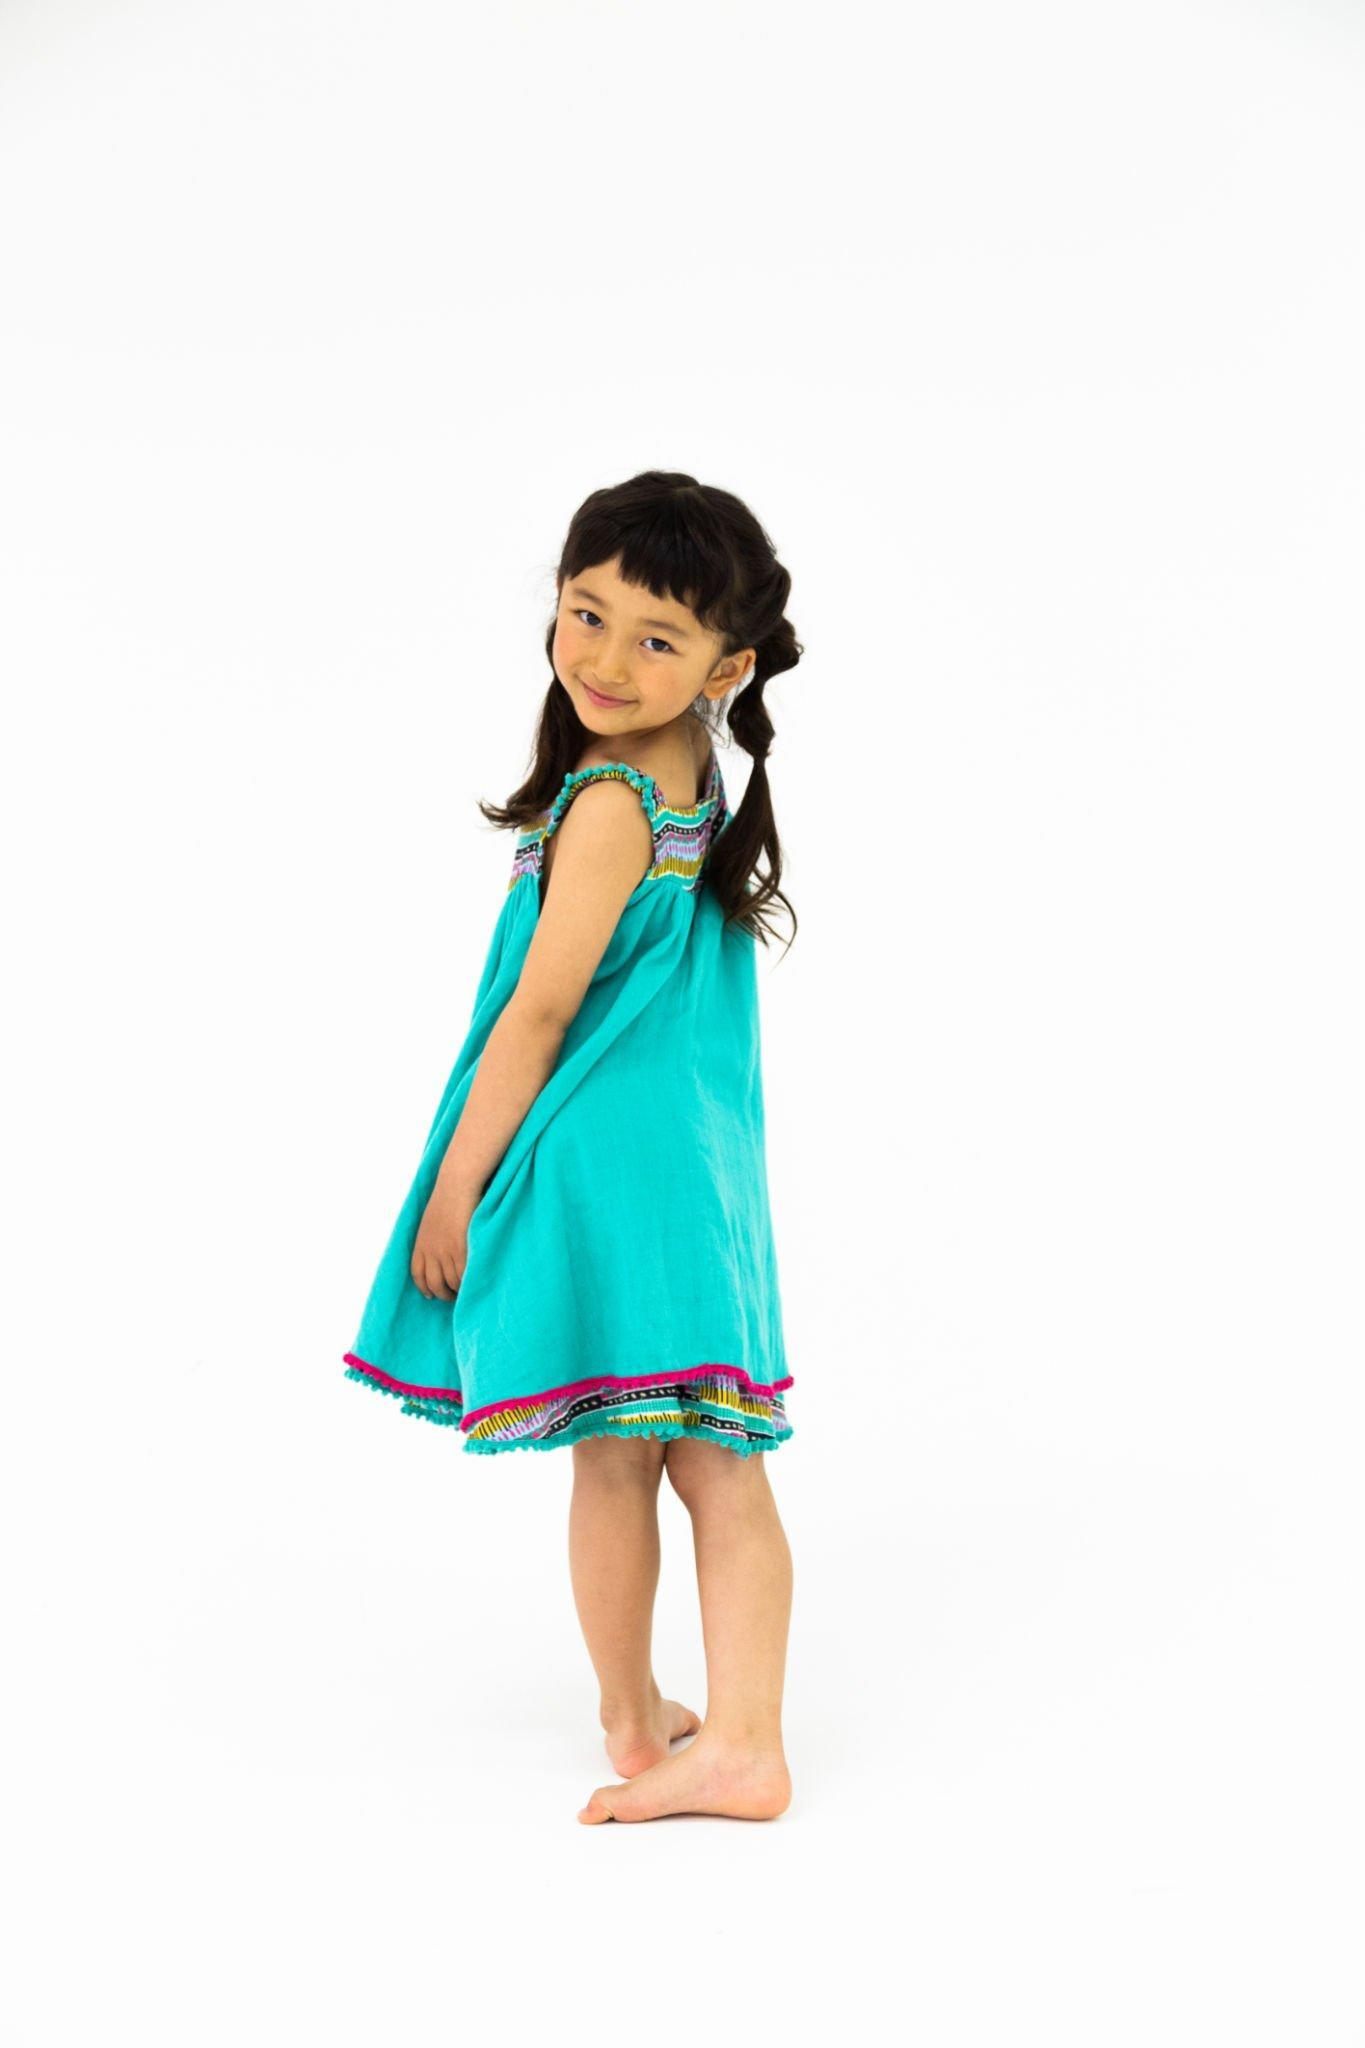Healthy: (527, 496, 772, 763)
